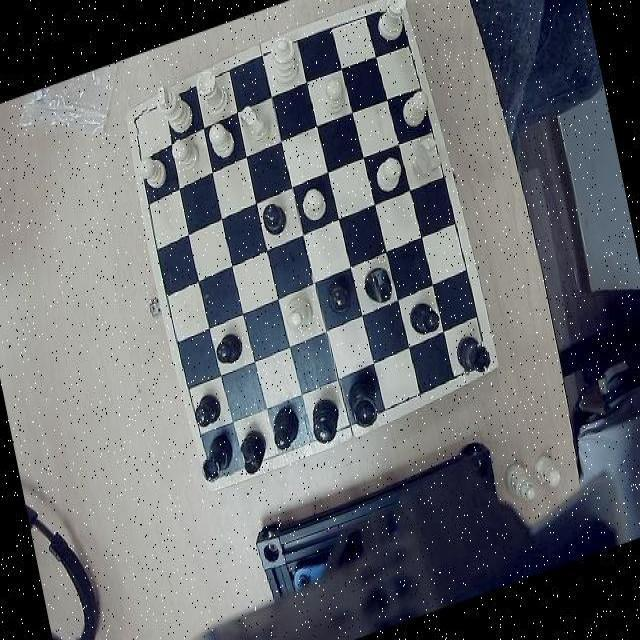chess-table-corners: (461, 338, 497, 378), (202, 451, 237, 489), (125, 101, 155, 138), (378, 0, 410, 29)
